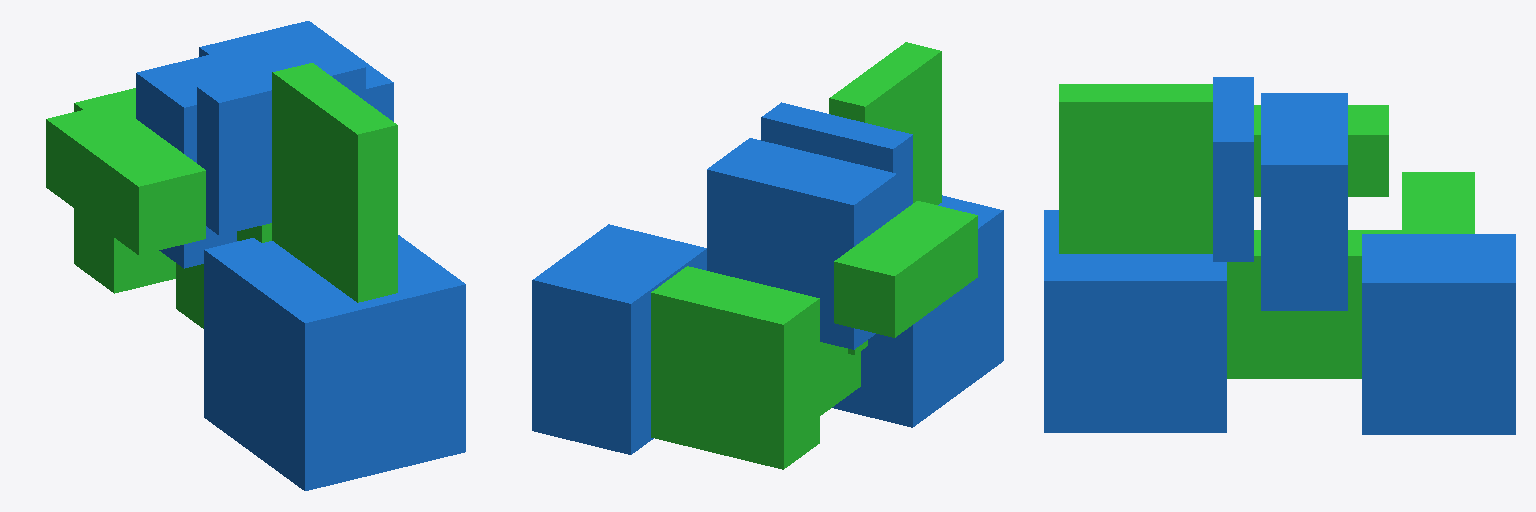
URDF robot description (robot):
<robot name = "robot">
    <link name="Link0">
        <inertial>
            <origin xyz="0 0 2" rpy="0 0 0"/>
            <mass value="0.24159438313137246" />
            <inertia ixx="100" ixy="0" ixz="0" iyy="100" iyz="0" izz="100" />
        </inertial>
        <visual>
            <origin xyz="0 0 2" rpy="0 0 0"/>
            <geometry>
                <box size="0.4719931710897395 1.1207323061773764 0.4567191553394264" />
            </geometry>
            <material name="Sensor">
                <color rgba="0.239 0.875 0.282 1.0"/>
            </material>
        </visual>
        <collision>
            <origin xyz="0 0 2" rpy="0 0 0"/>
            <geometry>
                <box size="0.4719931710897395 1.1207323061773764 0.4567191553394264" />
            </geometry>
        </collision>
    </link>
    <joint name="Link0_Link1" type="revolute">
       <parent link="Link0"/>
       <child  link="Link1"/>
       <origin rpy="0 0 0" xyz="0.23599658554486974 0 2" />
       <axis xyz="1 0 0"/>
       <limit effort="0.0" lower="-3.14159" upper="3.14159" velocity="0.0"/>
    </joint>
    <link name="Link1">
        <inertial>
            <origin xyz="0.5714300757180009 0 0" rpy="0 0 0"/>
            <mass value="0.7124975516153823" />
            <inertia ixx="100" ixy="0" ixz="0" iyy="100" iyz="0" izz="100" />
        </inertial>
        <visual>
            <origin xyz="0.5714300757180009 0 0" rpy="0 0 0"/>
            <geometry>
                <box size="1.1428601514360017 0.5819798053011772 1.0712291230578317" />
            </geometry>
            <material name="No Sensor">
                <color rgba="0.184 0.553 0.933 1.0"/>
            </material>
        </visual>
        <collision>
            <origin xyz="0.5714300757180009 0 0" rpy="0 0 0"/>
            <geometry>
                <box size="1.1428601514360017 0.5819798053011772 1.0712291230578317" />
            </geometry>
        </collision>
    </link>
    <joint name="Link1_Link2" type="revolute">
       <parent link="Link1"/>
       <child  link="Link2"/>
       <origin rpy="0 0 0" xyz="0.5714300757180009 0.0 -0.5356145615289158" />
       <axis xyz="0 0 1"/>
       <limit effort="0.0" lower="-3.14159" upper="3.14159" velocity="0.0"/>
    </joint>
    <link name="Link2">
        <inertial>
            <origin xyz="0.0 0.0 -0.34420461572044675" rpy="0 0 0"/>
            <mass value="0.23135440586714634" />
            <inertia ixx="100" ixy="0" ixz="0" iyy="100" iyz="0" izz="100" />
        </inertial>
        <visual>
            <origin xyz="0.0 0.0 -0.34420461572044675" rpy="0 0 0"/>
            <geometry>
                <box size="0.32630828937395717 1.0299187922401147 0.6884092314408935" />
            </geometry>
            <material name="Sensor">
                <color rgba="0.239 0.875 0.282 1.0"/>
            </material>
        </visual>
        <collision>
            <origin xyz="0.0 0.0 -0.34420461572044675" rpy="0 0 0"/>
            <geometry>
                <box size="0.32630828937395717 1.0299187922401147 0.6884092314408935" />
            </geometry>
        </collision>
    </link>
    <joint name="Link2_Link3" type="revolute">
       <parent link="Link2"/>
       <child  link="Link3"/>
       <origin rpy="0 0 0" xyz="0.0 -0.5149593961200574 -0.34420461572044675" />
       <axis xyz="0 1 0"/>
       <limit effort="0.0" lower="-3.14159" upper="3.14159" velocity="0.0"/>
    </joint>
    <link name="Link3">
        <inertial>
            <origin xyz="0.0 -0.6092703314104659 0.0" rpy="0 0 0"/>
            <mass value="1.5321151085328013" />
            <inertia ixx="100" ixy="0" ixz="0" iyy="100" iyz="0" izz="100" />
        </inertial>
        <visual>
            <origin xyz="0.0 -0.6092703314104659 0.0" rpy="0 0 0"/>
            <geometry>
                <box size="1.1234294027918161 1.2185406628209319 1.11919454021392" />
            </geometry>
            <material name="No Sensor">
                <color rgba="0.184 0.553 0.933 1.0"/>
            </material>
        </visual>
        <collision>
            <origin xyz="0.0 -0.6092703314104659 0.0" rpy="0 0 0"/>
            <geometry>
                <box size="1.1234294027918161 1.2185406628209319 1.11919454021392" />
            </geometry>
        </collision>
    </link>
    <joint name="Link3_Link4" type="revolute">
       <parent link="Link3"/>
       <child  link="Link4"/>
       <origin rpy="0 0 0" xyz="0.0 -0.6092703314104659 0.55959727010696" />
       <axis xyz="1 0 0"/>
       <limit effort="0.0" lower="-3.14159" upper="3.14159" velocity="0.0"/>
    </joint>
    <link name="Link4">
        <inertial>
            <origin xyz="0.0 0.0 0.5605831387685627" rpy="0 0 0"/>
            <mass value="0.3218038470716978" />
            <inertia ixx="100" ixy="0" ixz="0" iyy="100" iyz="0" izz="100" />
        </inertial>
        <visual>
            <origin xyz="0.0 0.0 0.5605831387685627" rpy="0 0 0"/>
            <geometry>
                <box size="0.2793153006893846 1.0276056380670884 1.1211662775371254" />
            </geometry>
            <material name="Sensor">
                <color rgba="0.239 0.875 0.282 1.0"/>
            </material>
        </visual>
        <collision>
            <origin xyz="0.0 0.0 0.5605831387685627" rpy="0 0 0"/>
            <geometry>
                <box size="0.2793153006893846 1.0276056380670884 1.1211662775371254" />
            </geometry>
        </collision>
    </link>
    <joint name="Link4_Link5" type="revolute">
       <parent link="Link4"/>
       <child  link="Link5"/>
       <origin rpy="0 0 0" xyz="0.0 0.5138028190335442 0.5605831387685627" />
       <axis xyz="0 1 0"/>
       <limit effort="0.0" lower="-3.14159" upper="3.14159" velocity="0.0"/>
    </joint>
    <link name="Link5">
        <inertial>
            <origin xyz="0.0 0.13537597467970075 0.0" rpy="0 0 0"/>
            <mass value="0.2443504350150486" />
            <inertia ixx="100" ixy="0" ixz="0" iyy="100" iyz="0" izz="100" />
        </inertial>
        <visual>
            <origin xyz="0.0 0.13537597467970075 0.0" rpy="0 0 0"/>
            <geometry>
                <box size="1.0213206432667459 0.2707519493594015 0.8836482349262754" />
            </geometry>
            <material name="No Sensor">
                <color rgba="0.184 0.553 0.933 1.0"/>
            </material>
        </visual>
        <collision>
            <origin xyz="0.0 0.13537597467970075 0.0" rpy="0 0 0"/>
            <geometry>
                <box size="1.0213206432667459 0.2707519493594015 0.8836482349262754" />
            </geometry>
        </collision>
    </link>
    <joint name="Link5_Link6" type="revolute">
       <parent link="Link5"/>
       <child  link="Link6"/>
       <origin rpy="0 0 0" xyz="0.0 0.13537597467970075 -0.4418241174631377" />
       <axis xyz="0 0 1"/>
       <limit effort="0.0" lower="-3.14159" upper="3.14159" velocity="0.0"/>
    </joint>
    <link name="Link6">
        <inertial>
            <origin xyz="0.0 0.0 -0.3566092632491723" rpy="0 0 0"/>
            <mass value="0.0826955686865952" />
            <inertia ixx="100" ixy="0" ixz="0" iyy="100" iyz="0" izz="100" />
        </inertial>
        <visual>
            <origin xyz="0.0 0.0 -0.3566092632491723" rpy="0 0 0"/>
            <geometry>
                <box size="0.4302696888767692 0.2694752414876246 0.7132185264983446" />
            </geometry>
            <material name="Sensor">
                <color rgba="0.239 0.875 0.282 1.0"/>
            </material>
        </visual>
        <collision>
            <origin xyz="0.0 0.0 -0.3566092632491723" rpy="0 0 0"/>
            <geometry>
                <box size="0.4302696888767692 0.2694752414876246 0.7132185264983446" />
            </geometry>
        </collision>
    </link>
    <joint name="Link6_Link7" type="revolute">
       <parent link="Link6"/>
       <child  link="Link7"/>
       <origin rpy="0 0 0" xyz="0.0 0.1347376207438123 -0.3566092632491723" />
       <axis xyz="0 1 0"/>
       <limit effort="0.0" lower="-3.14159" upper="3.14159" velocity="0.0"/>
    </joint>
    <link name="Link7">
        <inertial>
            <origin xyz="0.0 0.4950248482577024 0.0" rpy="0 0 0"/>
            <mass value="0.20539853719865275" />
            <inertia ixx="100" ixy="0" ixz="0" iyy="100" iyz="0" izz="100" />
        </inertial>
        <visual>
            <origin xyz="0.0 0.4950248482577024 0.0" rpy="0 0 0"/>
            <geometry>
                <box size="0.40416284237967237 0.9900496965154048 0.5133150151851347" />
            </geometry>
            <material name="Sensor">
                <color rgba="0.239 0.875 0.282 1.0"/>
            </material>
        </visual>
        <collision>
            <origin xyz="0.0 0.4950248482577024 0.0" rpy="0 0 0"/>
            <geometry>
                <box size="0.40416284237967237 0.9900496965154048 0.5133150151851347" />
            </geometry>
        </collision>
    </link>
    <joint name="Link7_Link8" type="revolute">
       <parent link="Link7"/>
       <child  link="Link8"/>
       <origin rpy="0 0 0" xyz="0.0 0.9900496965154048 0.0" />
       <axis xyz="0 1 0"/>
       <limit effort="0.0" lower="-3.14159" upper="3.14159" velocity="0.0"/>
    </joint>
    <link name="Link8">
        <inertial>
            <origin xyz="0.0 0.24377061001745615 0.0" rpy="0 0 0"/>
            <mass value="0.5382643443625381" />
            <inertia ixx="100" ixy="0" ixz="0" iyy="100" iyz="0" izz="100" />
        </inertial>
        <visual>
            <origin xyz="0.0 0.24377061001745615 0.0" rpy="0 0 0"/>
            <geometry>
                <box size="1.0277024105738202 0.4875412200349123 1.0742785326613684" />
            </geometry>
            <material name="Sensor">
                <color rgba="0.239 0.875 0.282 1.0"/>
            </material>
        </visual>
        <collision>
            <origin xyz="0.0 0.24377061001745615 0.0" rpy="0 0 0"/>
            <geometry>
                <box size="1.0277024105738202 0.4875412200349123 1.0742785326613684" />
            </geometry>
        </collision>
    </link>
    <joint name="Link8_Link9" type="revolute">
       <parent link="Link8"/>
       <child  link="Link9"/>
       <origin rpy="0 0 0" xyz="0.5138512052869101 0.24377061001745615 0.0" />
       <axis xyz="0 1 0"/>
       <limit effort="0.0" lower="-3.14159" upper="3.14159" velocity="0.0"/>
    </joint>
    <link name="Link9">
        <inertial>
            <origin xyz="0.3819716718863451 0.0 0.0" rpy="0 0 0"/>
            <mass value="0.8757712431768542" />
            <inertia ixx="100" ixy="0" ixz="0" iyy="100" iyz="0" izz="100" />
        </inertial>
        <visual>
            <origin xyz="0.3819716718863451 0.0 0.0" rpy="0 0 0"/>
            <geometry>
                <box size="0.7639433437726902 1.0231650520792968 1.1204276857248128" />
            </geometry>
            <material name="No Sensor">
                <color rgba="0.184 0.553 0.933 1.0"/>
            </material>
        </visual>
        <collision>
            <origin xyz="0.3819716718863451 0.0 0.0" rpy="0 0 0"/>
            <geometry>
                <box size="0.7639433437726902 1.0231650520792968 1.1204276857248128" />
            </geometry>
        </collision>
    </link>
</robot>

--- Render facts (derived) ---
The picture shows the robot from 3 angles, left to right: view 1: azimuth 30°, elevation 25°; view 2: azimuth 150°, elevation 25°; view 3: azimuth 270°, elevation 25°; orthographic projection.
Robot: robot — 10 links, 9 joints (9 revolute); root link Link0; default pose: every joint at zero.
Visible links, largest first — view 1: Link3, Link4, Link0, Link5, Link1, Link8, Link9, Link2; view 2: Link8, Link9, Link1, Link3, Link0, Link4, Link5, Link2; view 3: Link3, Link9, Link4, Link1, Link5, Link2, Link8, Link0, Link7, Link6.
Link boxes in pixels (left/top/right/bottom): Link3: left=204, top=235, right=465, bottom=490; Link4: left=272, top=63, right=397, bottom=302; Link0: left=46, top=102, right=205, bottom=254; Link5: left=197, top=51, right=365, bottom=235; Link1: left=136, top=33, right=328, bottom=268; Link8: left=74, top=88, right=175, bottom=293; Link9: left=199, top=21, right=393, bottom=121; Link2: left=176, top=263, right=203, bottom=328; Link8: left=651, top=266, right=819, bottom=469; Link9: left=532, top=224, right=706, bottom=454; Link1: left=707, top=138, right=896, bottom=349; Link3: left=832, top=195, right=1003, bottom=427; Link0: left=834, top=201, right=977, bottom=337; Link4: left=829, top=42, right=941, bottom=204; Link5: left=761, top=102, right=912, bottom=214; Link2: left=820, top=348, right=860, bottom=415; Link3: left=1044, top=210, right=1226, bottom=432; Link9: left=1362, top=234, right=1515, bottom=434; Link4: left=1059, top=84, right=1212, bottom=253; Link1: left=1261, top=93, right=1347, bottom=310; Link5: left=1213, top=77, right=1253, bottom=261; Link2: left=1227, top=326, right=1361, bottom=378; Link8: left=1402, top=172, right=1474, bottom=233; Link0: left=1254, top=105, right=1388, bottom=196; Link7: left=1254, top=230, right=1401, bottom=325; Link6: left=1227, top=262, right=1253, bottom=339.
Bounding box of the posed robot: 2.32 × 3.14 × 2.24 m (x, y, z).
Geometry: primitives only (box / cylinder / sphere), no mesh files.